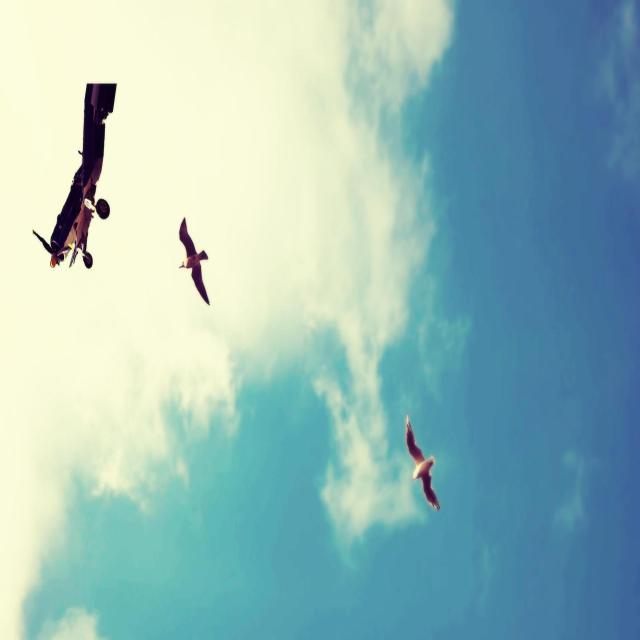airplane: (32, 81, 117, 270)
